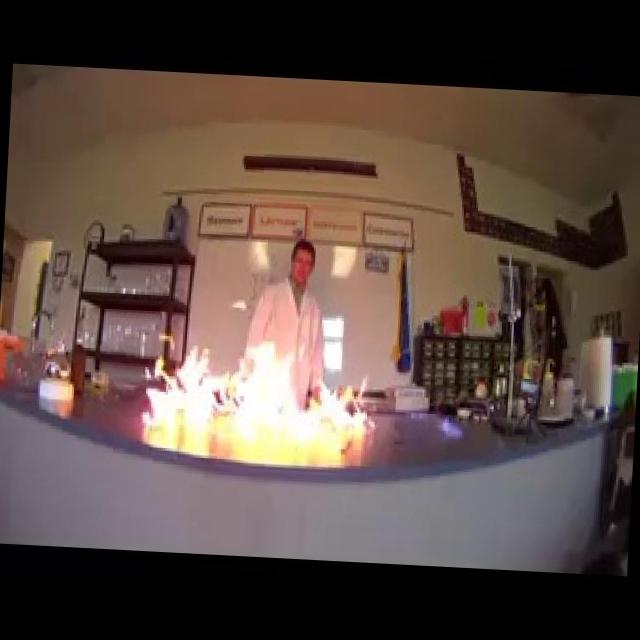Fire: (137, 324, 378, 443)
